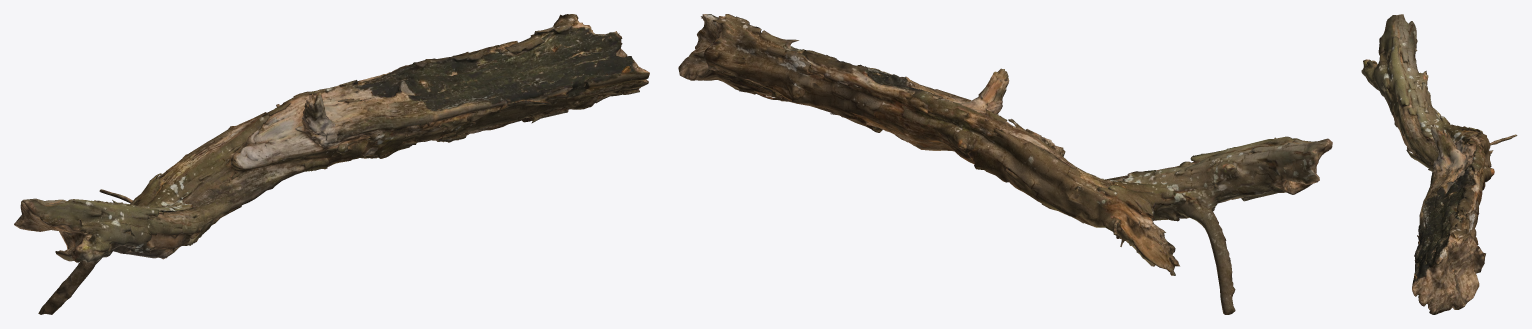
Rendered from dead_tree_trunk_02.glb.
3 views of the same model, side by side, from view 1: azimuth 30°, elevation 25°; view 2: azimuth 150°, elevation 25°; view 3: azimuth 270°, elevation 25° (orthographic). The views are drawn at different scales.
Visible parts, largest first — view 1: dead_tree_trunk_02; view 2: dead_tree_trunk_02; view 3: dead_tree_trunk_02.
Part boxes in pixels (x1,y1,x2,y2): dead_tree_trunk_02: [14, 14, 649, 314]; dead_tree_trunk_02: [678, 14, 1332, 314]; dead_tree_trunk_02: [1361, 14, 1517, 314].
Bounding box in the file's own units: 4.05 × 1.05 × 1.05.
Materials: 1 (1 with a texture image).
